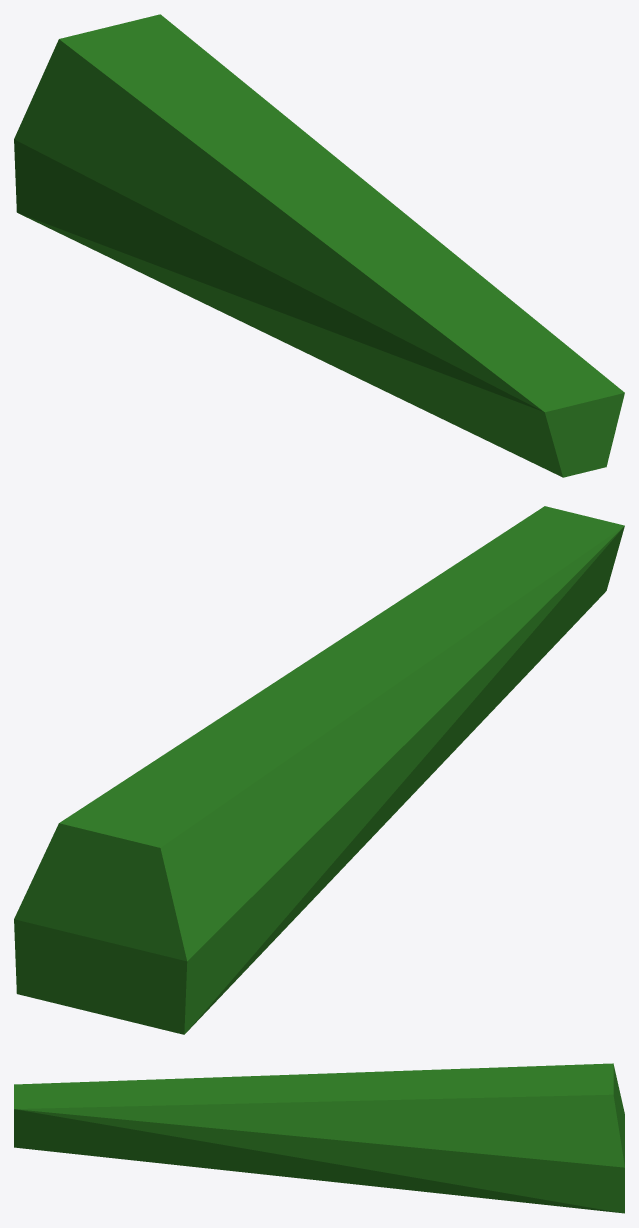
The model's file is Cannon.glb.
3 views of the same model, one above another, from view 1: azimuth 30°, elevation 25°; view 2: azimuth 150°, elevation 25°; view 3: azimuth 270°, elevation 25° (orthographic). The views are drawn at different scales.
Visible parts, largest first — view 1: Cannon; view 2: Cannon; view 3: Cannon.
Part boxes in pixels (box(x1,y1,x2,y2)): Cannon: box(14, 14, 624, 477); Cannon: box(14, 506, 624, 1034); Cannon: box(14, 1063, 624, 1213).
Bounding box in the file's own units: 0.2014 × 0.1914 × 0.9754.
